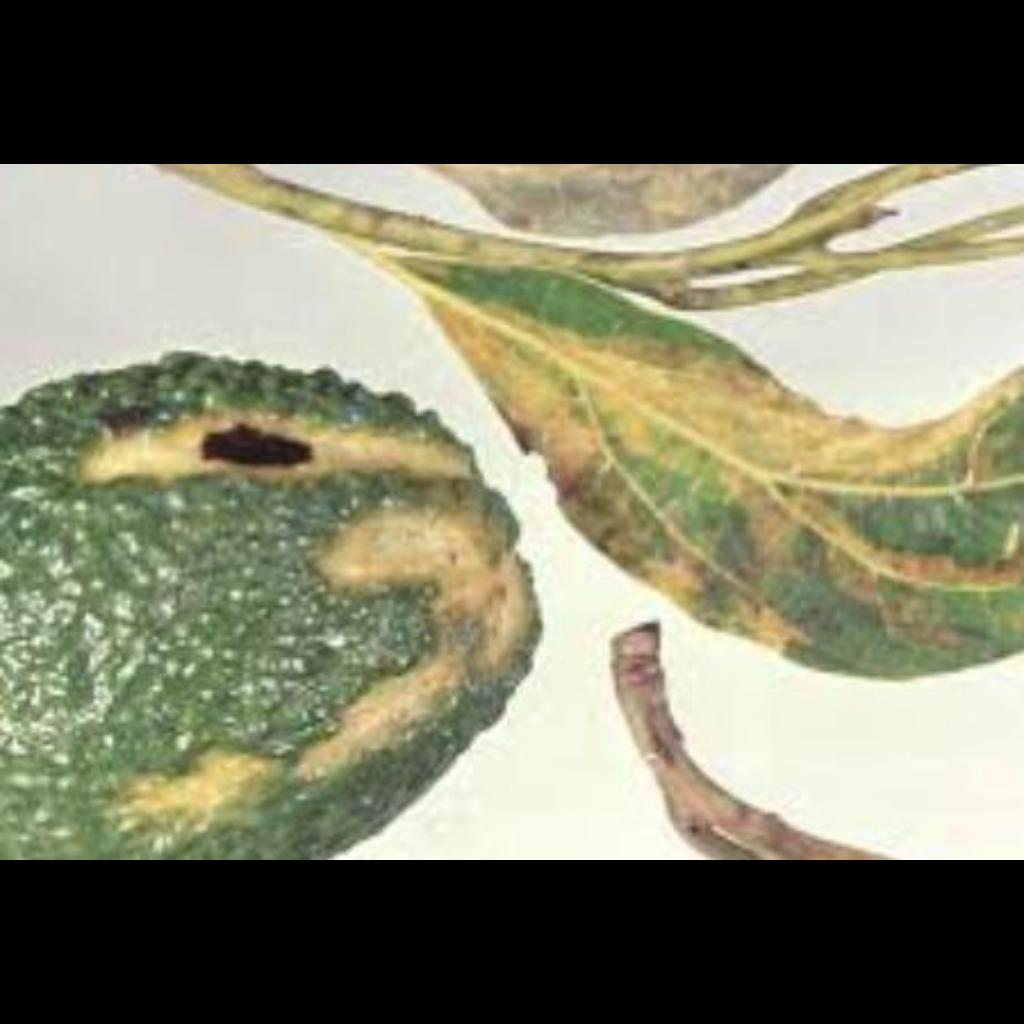cercospora: (0, 350, 587, 860)
